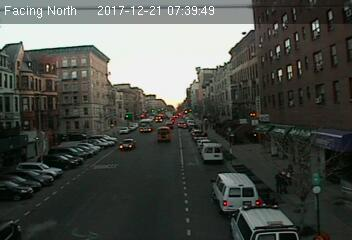car: (118, 137, 136, 152)
police: (225, 204, 309, 240)
truck: (209, 172, 262, 213), (200, 142, 222, 161), (157, 126, 170, 141)
